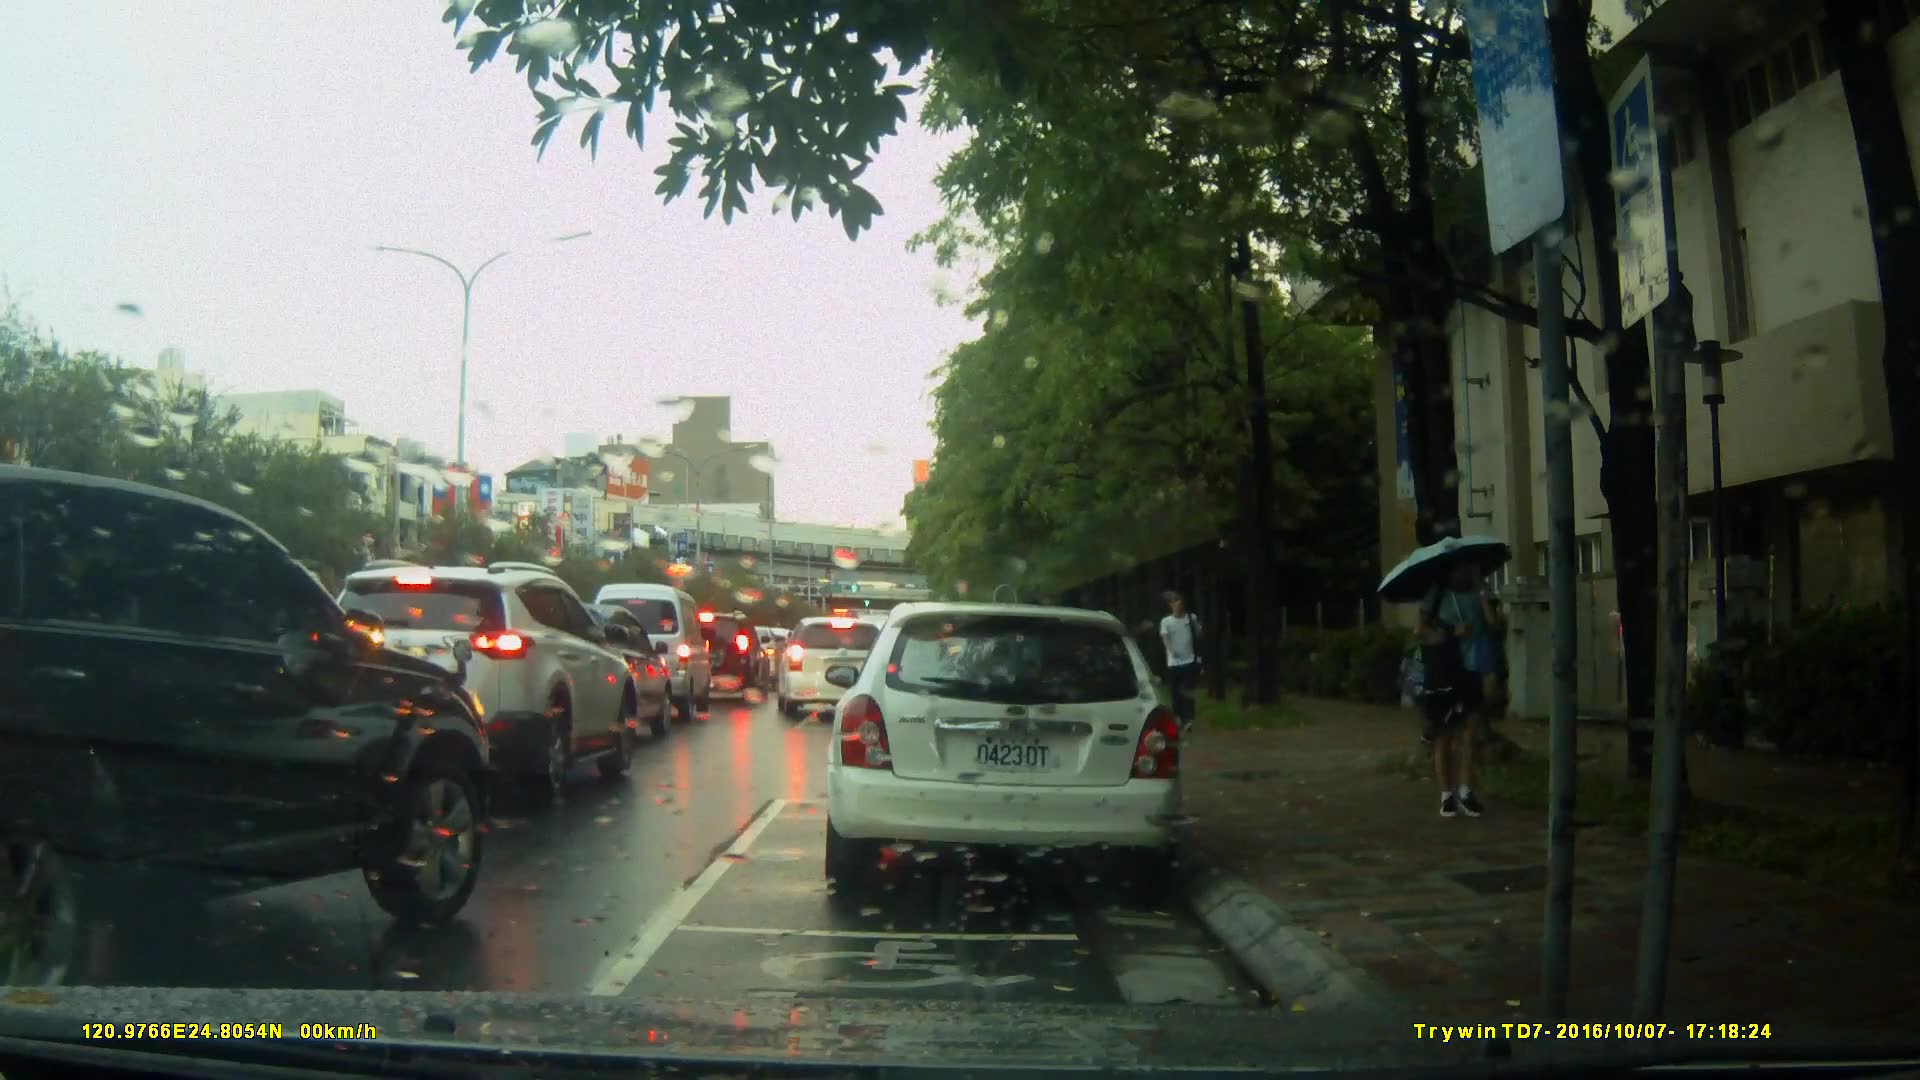pedestrian: (1406, 528, 1512, 840), (1153, 586, 1205, 738)
vehicle: (1, 462, 508, 987), (820, 602, 1188, 898), (301, 557, 643, 801), (482, 602, 678, 747), (579, 582, 711, 728), (774, 616, 908, 721), (676, 611, 768, 698)
